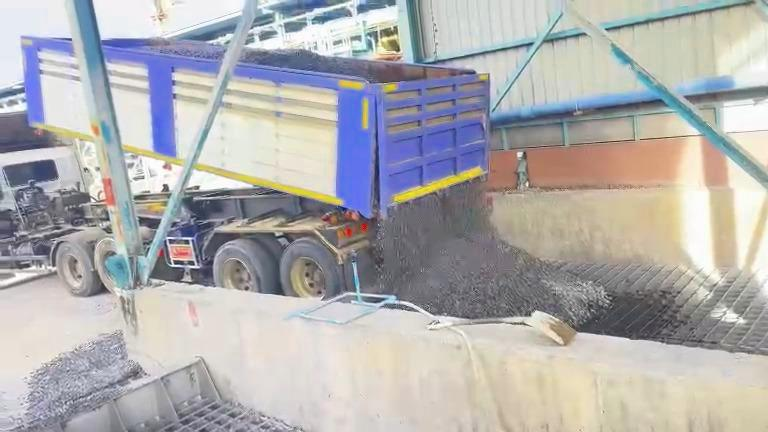gravel: (375, 182, 610, 326), (14, 332, 144, 429), (240, 47, 420, 82), (141, 38, 226, 60)
